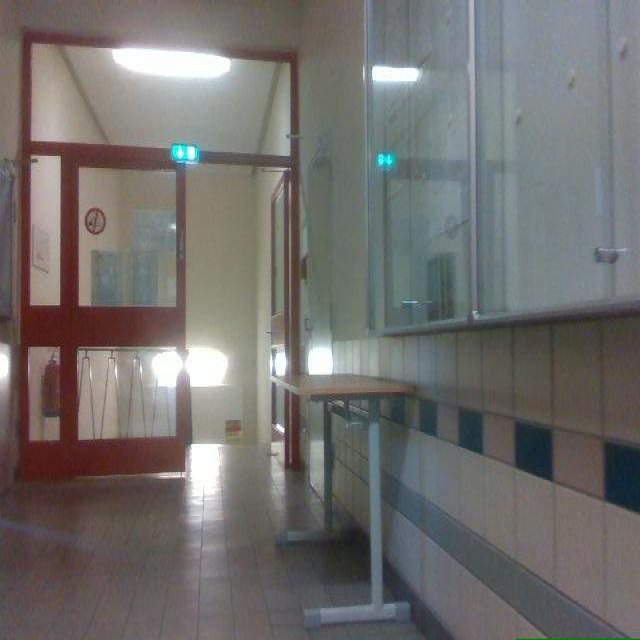objects: (273, 375, 412, 624), (285, 477, 332, 541), (0, 160, 14, 318)
